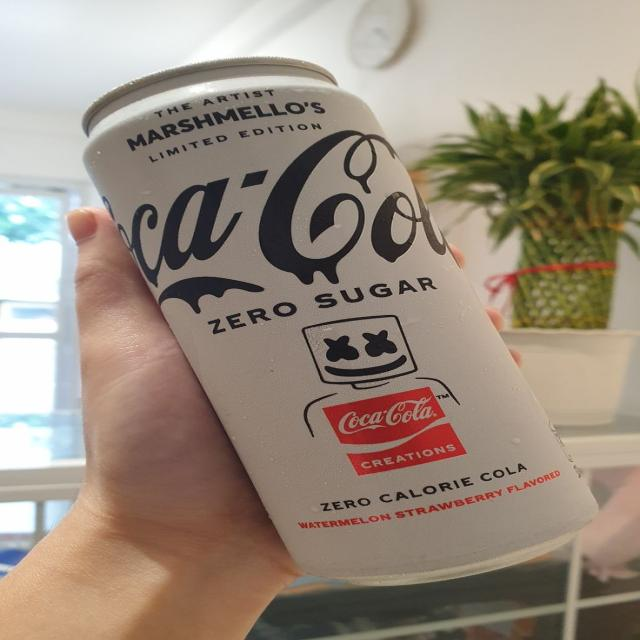can: (77, 53, 605, 589)
